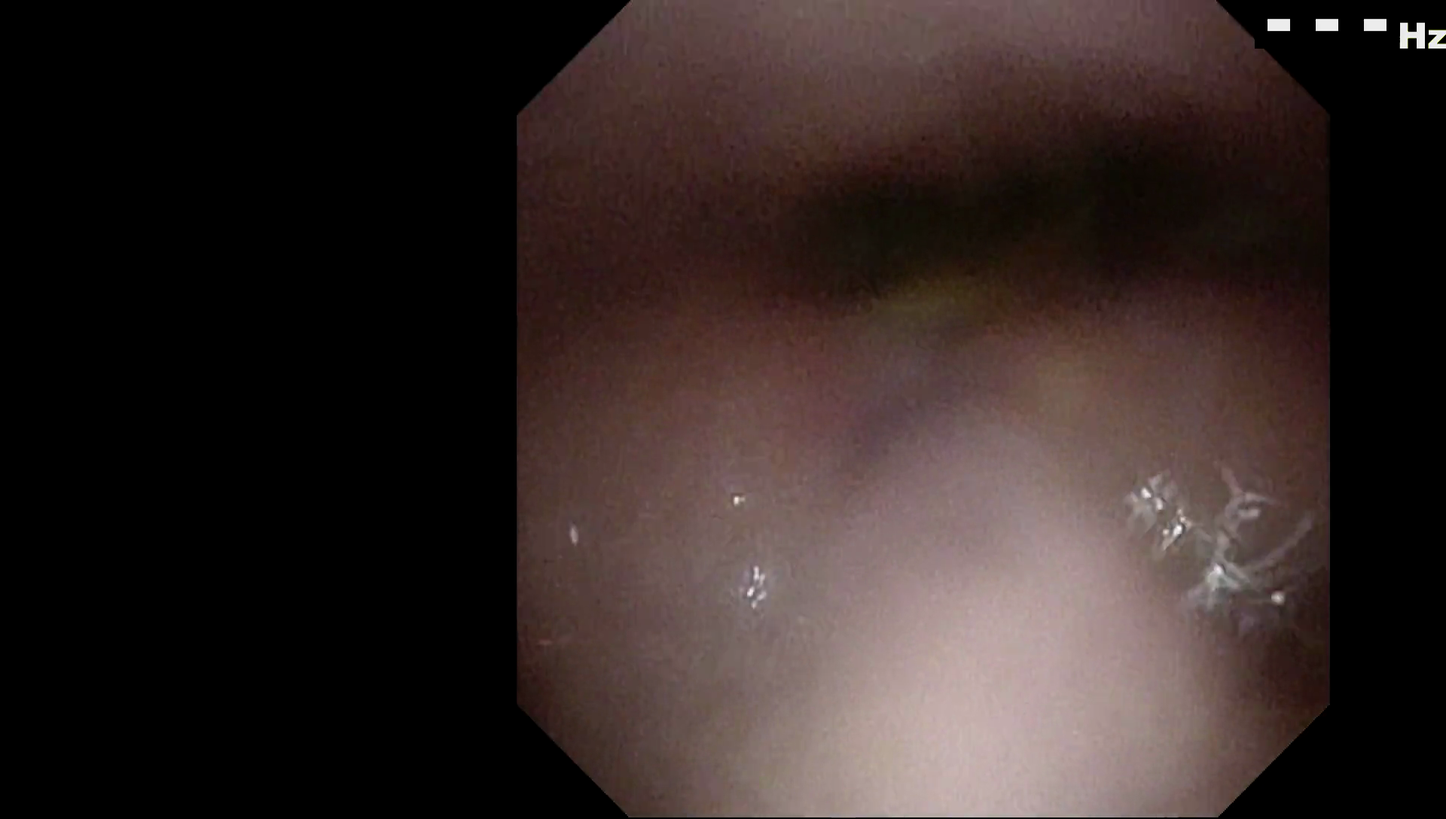next: (1050, 84, 1223, 319), (821, 150, 1046, 308)
